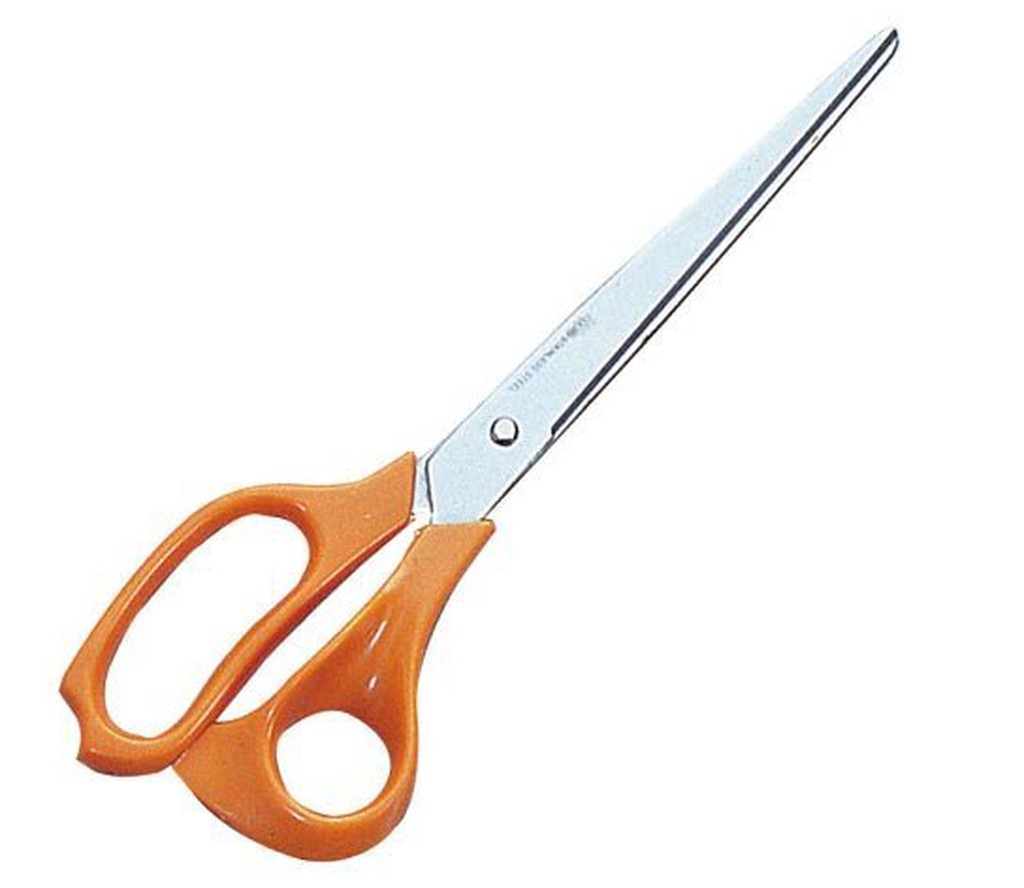scissors: (48, 1, 902, 866)
